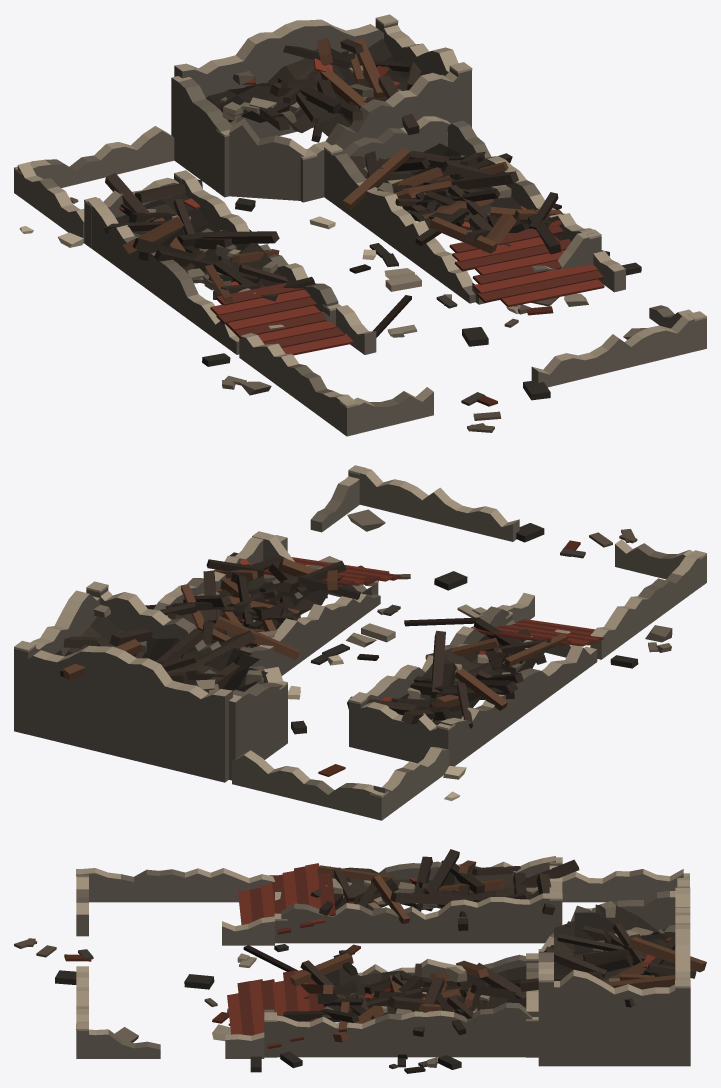
Rendered from VerBuild03b.glb.
3 views of the same model, one above another, from view 1: azimuth 30°, elevation 25°; view 2: azimuth 150°, elevation 25°; view 3: azimuth 270°, elevation 25° (orthographic). The views are drawn at different scales.
Parts seen in each view (by area): view 1: VerBuild03b_wall; view 2: VerBuild03b_wall; view 3: VerBuild03b_wall.
Part boxes in pixels (x1,y1,x2,y2): VerBuild03b_wall: [14, 14, 706, 436]; VerBuild03b_wall: [14, 465, 706, 820]; VerBuild03b_wall: [14, 849, 706, 1073].
Size of the model in its own units: 11.36 by 2.57 by 16.82.
